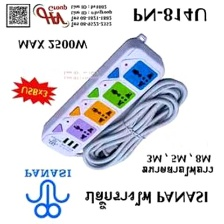three_eye_plug: (38, 35, 167, 160)
